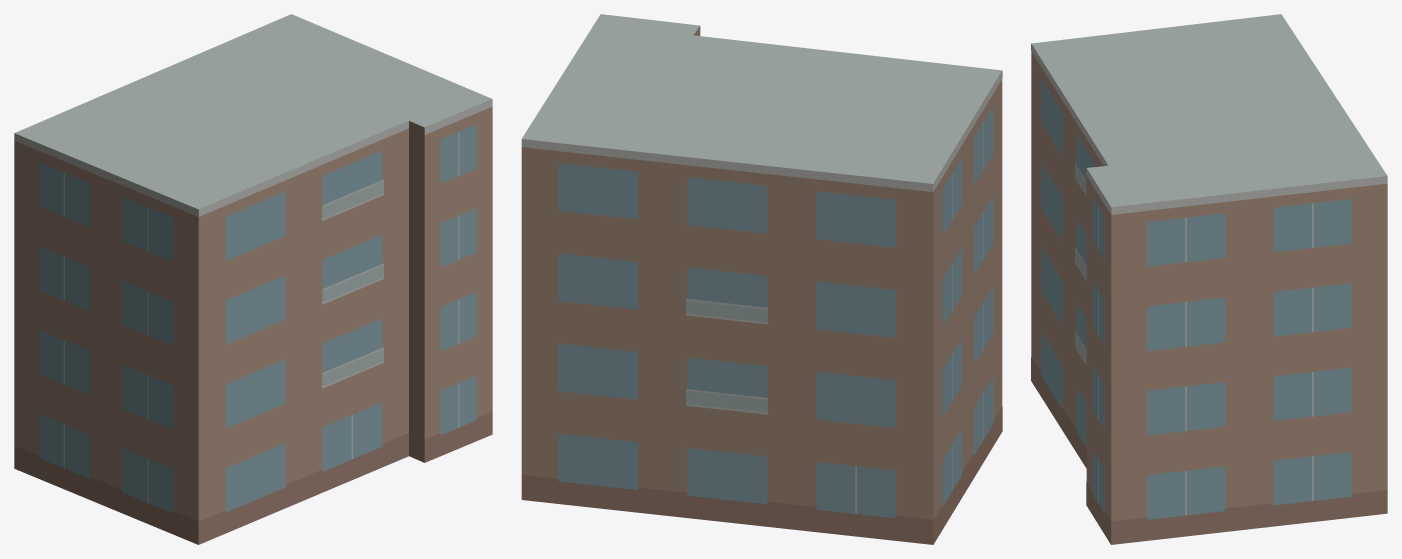
File: survey-upis-32956245.glb
3 renders of one model, left to right at view 1: azimuth 30°, elevation 25°; view 2: azimuth 150°, elevation 25°; view 3: azimuth 270°, elevation 25°, orthographic. The views are drawn at different scales.
Parts seen in each view (by area): view 1: survey-upis-32956245.tmp; view 2: survey-upis-32956245.tmp; view 3: survey-upis-32956245.tmp.
Boxes of the visible parts, box(x1,y1,x2,y2) form: survey-upis-32956245.tmp: box(14, 14, 492, 544); survey-upis-32956245.tmp: box(521, 14, 1002, 544); survey-upis-32956245.tmp: box(1031, 14, 1387, 544).
Size of the model in its own units: 13.34 by 10.85 by 10.39.
